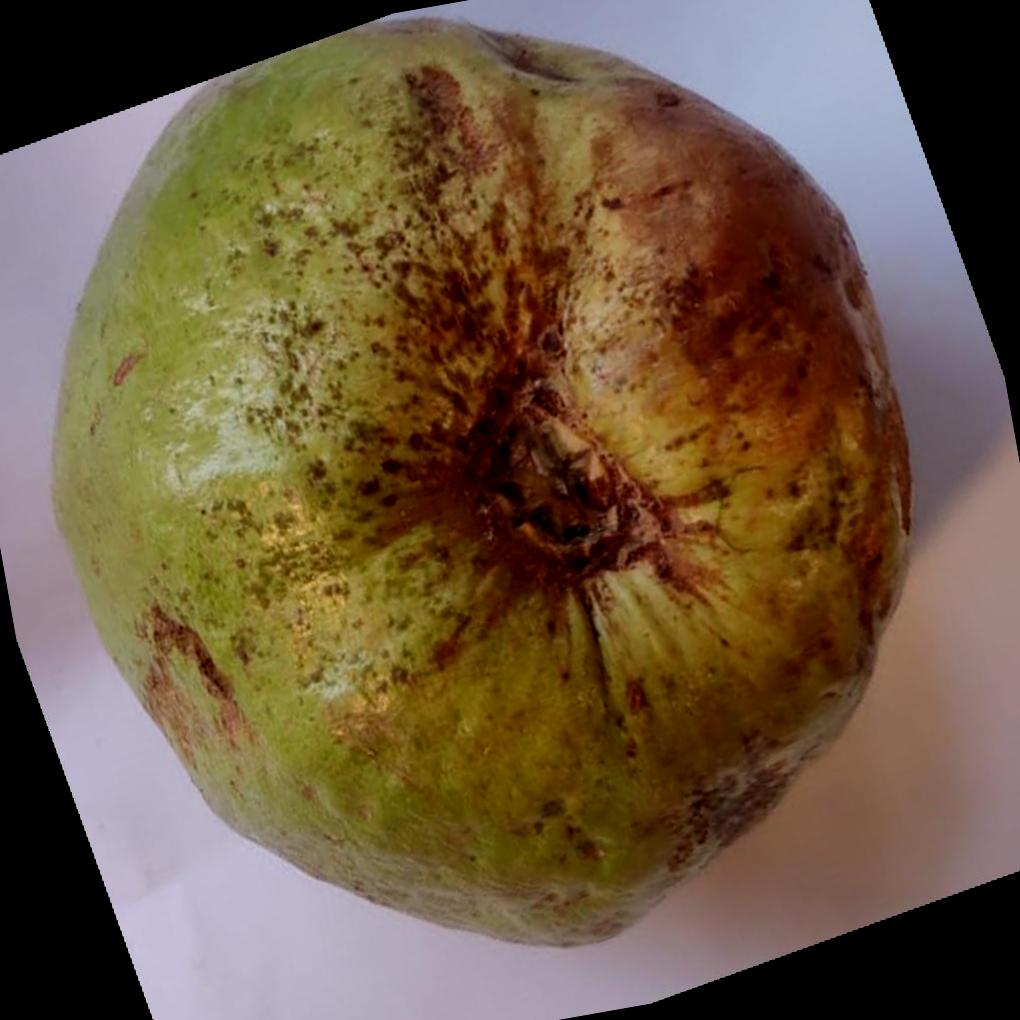FreshOrange: (45, 15, 911, 949)
